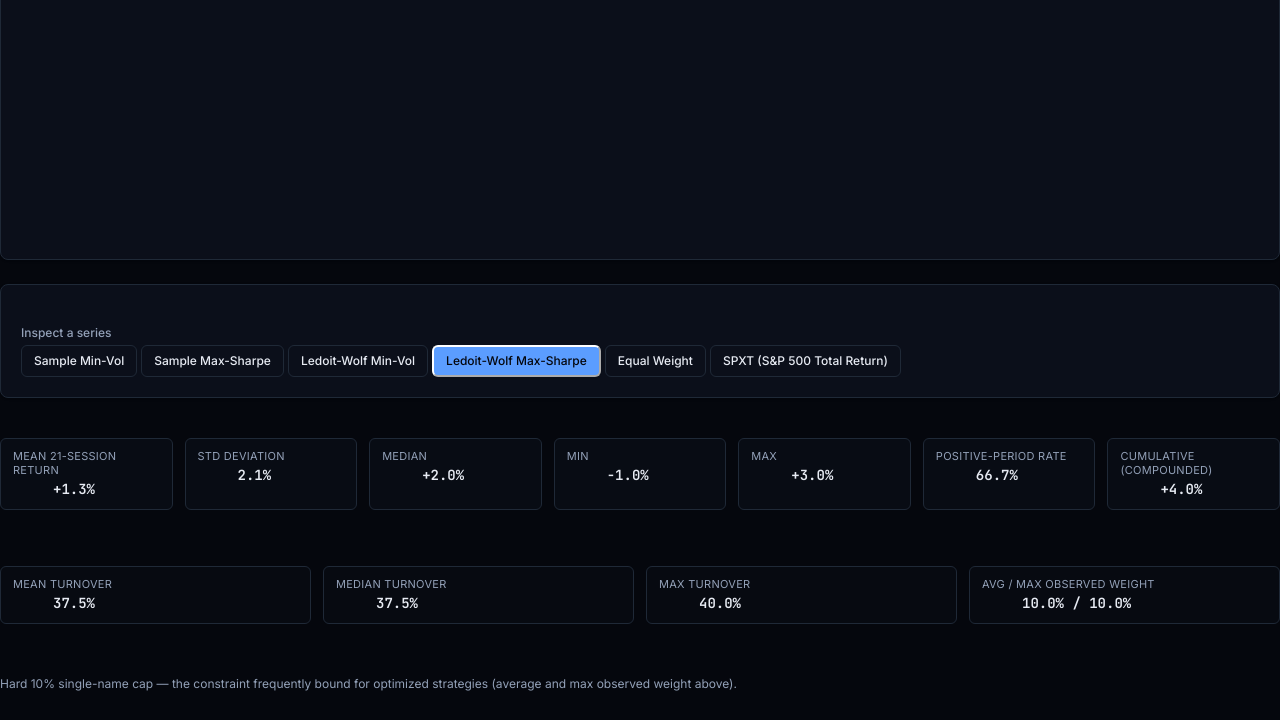
it: HistoricalEvidencePage › updates the summary stats when a different series is selected
(page scrolled)
Expected: the text "Mean 21-session return" shows "+1.3%", [53,480,95,498]
Click the button "Equal Weight" at (655, 361), box [605,345,706,377]
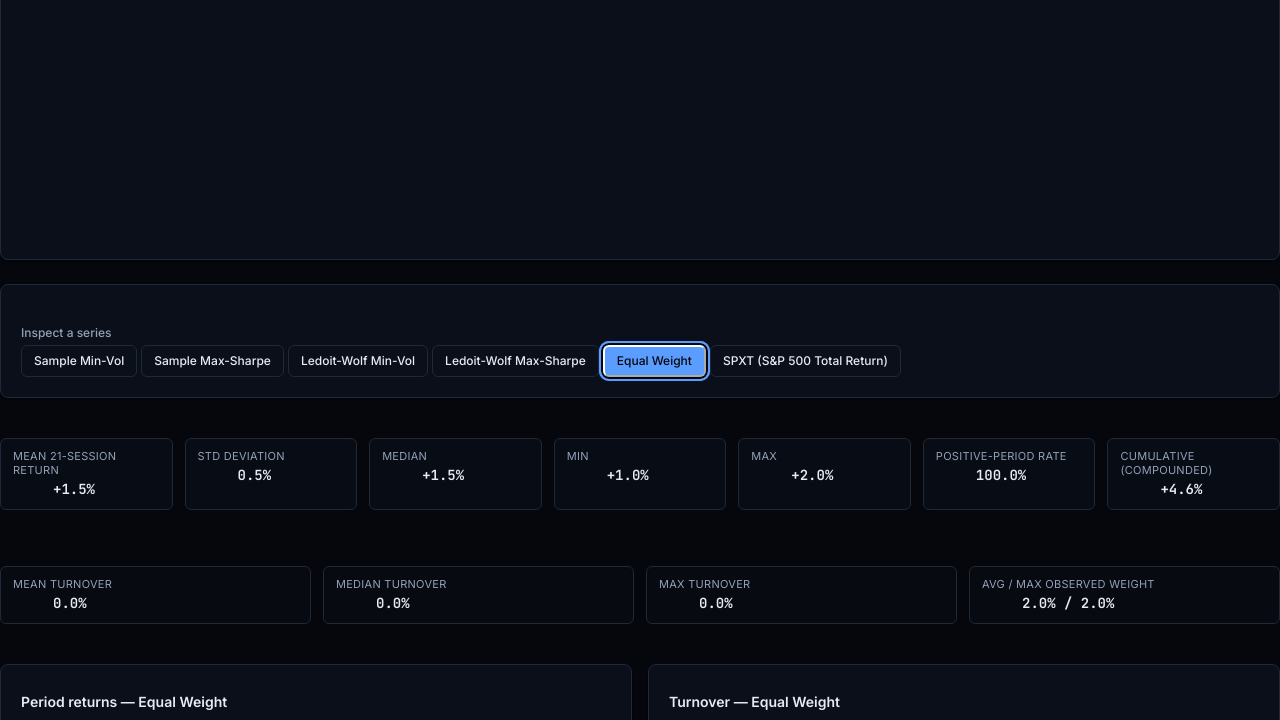
Now the text "Mean 21-session return" shows "+1.5%", box [53,480,95,498]
